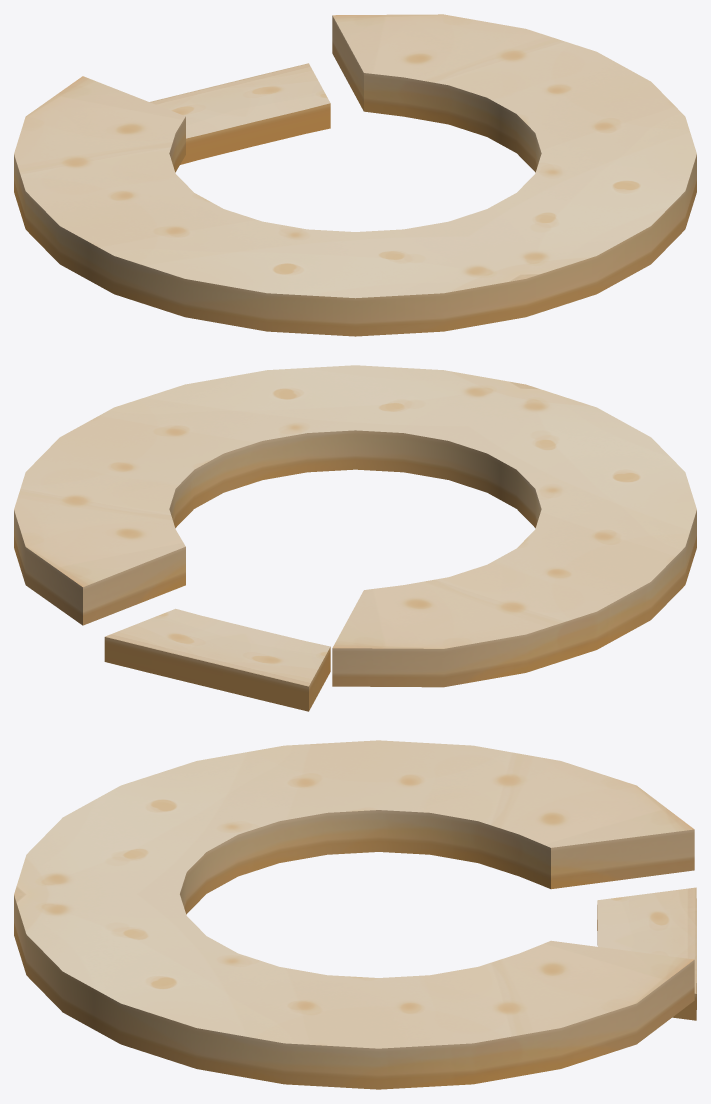
The model's file is platform.fbx.
3 views of the same model, one above another, from view 1: azimuth 30°, elevation 25°; view 2: azimuth 150°, elevation 25°; view 3: azimuth 270°, elevation 25° (orthographic). The views are drawn at different scales.
Visible parts, largest first — view 1: Circle, Circle.001; view 2: Circle, Circle.001; view 3: Circle, Circle.001.
Part boxes in pixels (<box>): Circle: <box>14,14,696,336</box>; Circle.001: <box>150,63,330,164</box>; Circle: <box>14,365,696,687</box>; Circle.001: <box>104,608,330,711</box>; Circle: <box>14,740,694,1089</box>; Circle.001: <box>597,887,696,1020</box>.
Bounding box in the file's own units: 200 × 22.25 × 187.
